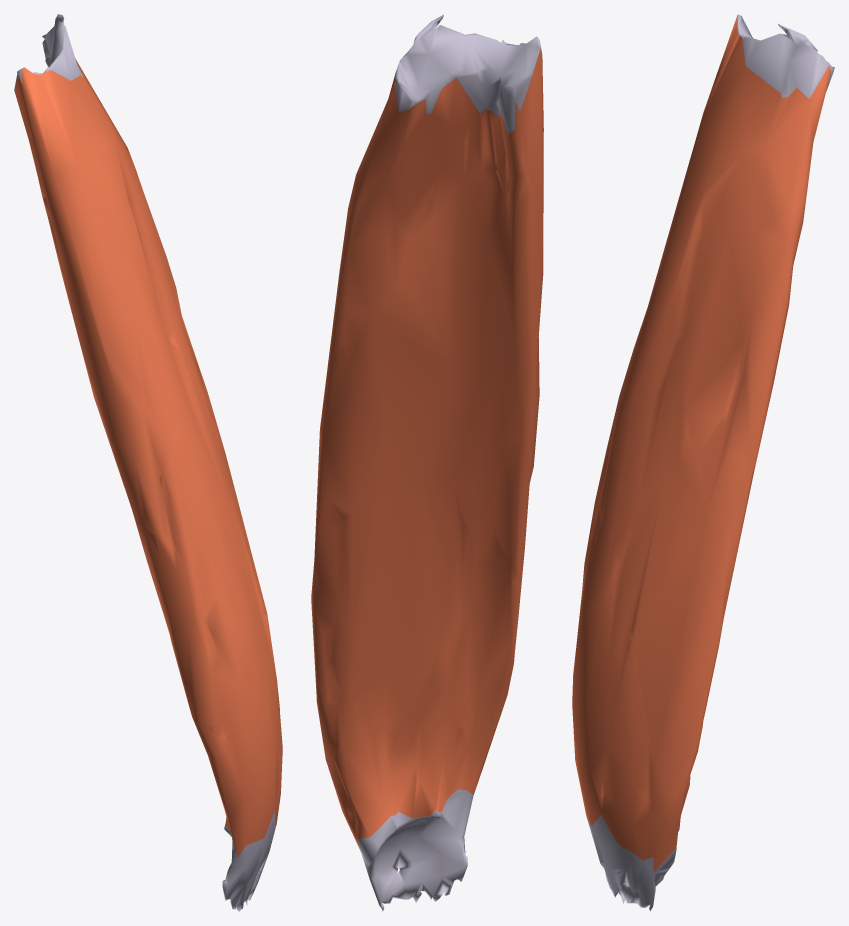
Rendered from Abductor_digiti_minimi.r_Generated_Mesh_From_X3D.1018.glb.
3 views of the same model, side by side, from view 1: azimuth 30°, elevation 25°; view 2: azimuth 150°, elevation 25°; view 3: azimuth 270°, elevation 25° (orthographic). The views are drawn at different scales.
Parts seen in each view (by area): view 1: Abductor_digiti_minimi.r_Generated_Mesh_From_X3D.1018; view 2: Abductor_digiti_minimi.r_Generated_Mesh_From_X3D.1018; view 3: Abductor_digiti_minimi.r_Generated_Mesh_From_X3D.1018.
Boxes of the visible parts, x1=… form: Abductor_digiti_minimi.r_Generated_Mesh_From_X3D.1018: x1=14, y1=14, x2=282, y2=911; Abductor_digiti_minimi.r_Generated_Mesh_From_X3D.1018: x1=311, y1=14, x2=543, y2=911; Abductor_digiti_minimi.r_Generated_Mesh_From_X3D.1018: x1=572, y1=14, x2=834, y2=911.
Size of the model in its own units: 0.0182 by 0.0673 by 0.0192.
